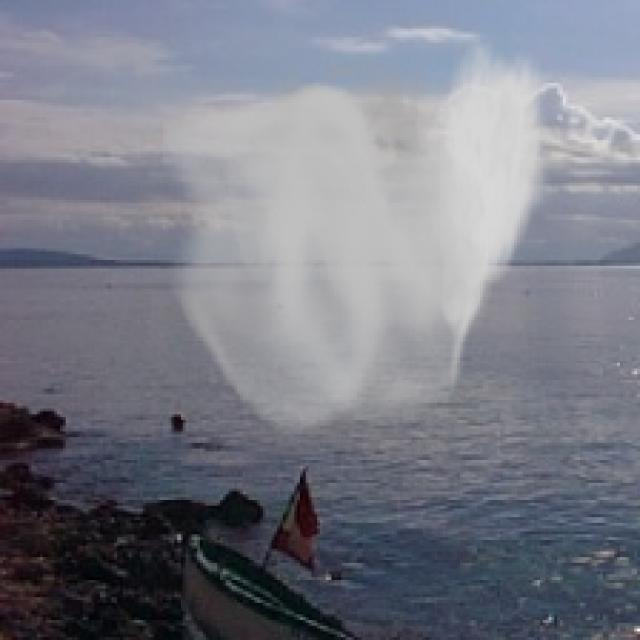smoke: (160, 34, 551, 446)
